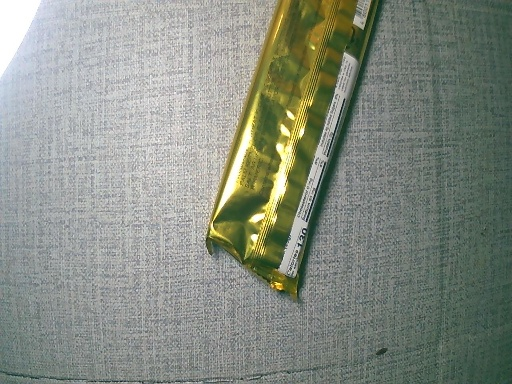plastic: (203, 1, 388, 303)
